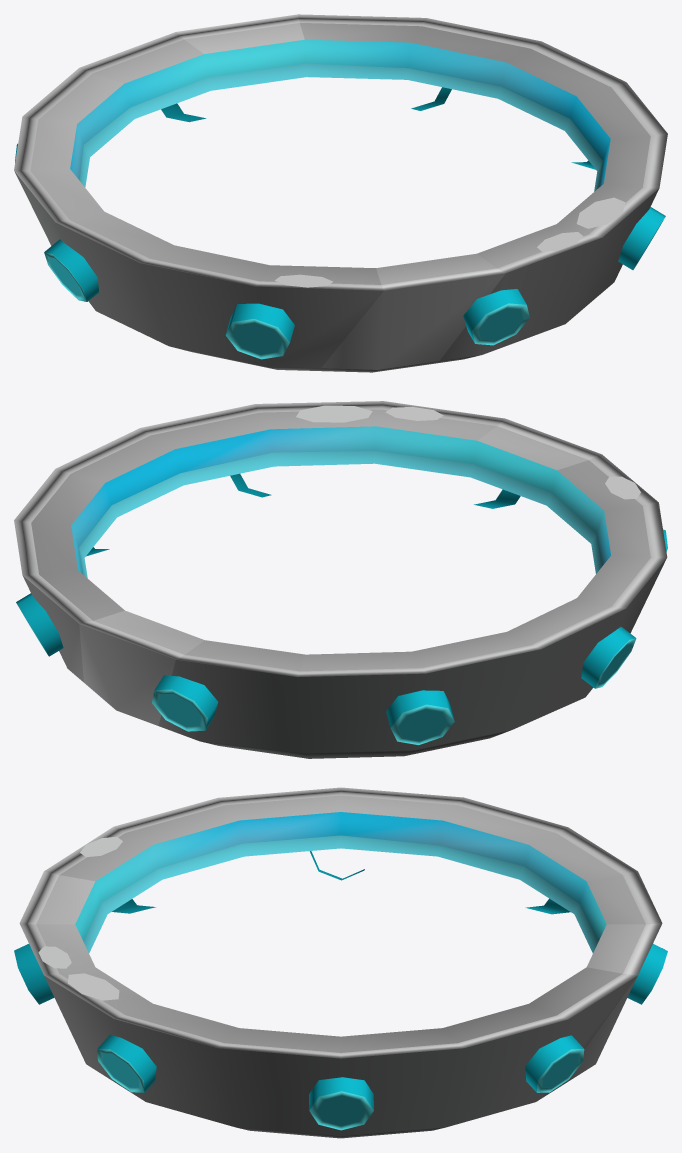
Rendered from floatingPlatform.glb.
3 renders of one model, top to bottom at view 1: azimuth 30°, elevation 25°; view 2: azimuth 150°, elevation 25°; view 3: azimuth 270°, elevation 25°, orthographic. The views are drawn at different scales.
Visible parts, largest first — view 1: floatingPlatform; view 2: floatingPlatform; view 3: floatingPlatform.
Part boxes in pixels (left/top/right/bottom): floatingPlatform: left=14, top=14, right=667, bottom=372; floatingPlatform: left=14, top=401, right=667, bottom=758; floatingPlatform: left=14, top=787, right=667, bottom=1138.
Bounding box in the file's own units: 1.09 × 0.2126 × 1.1.
